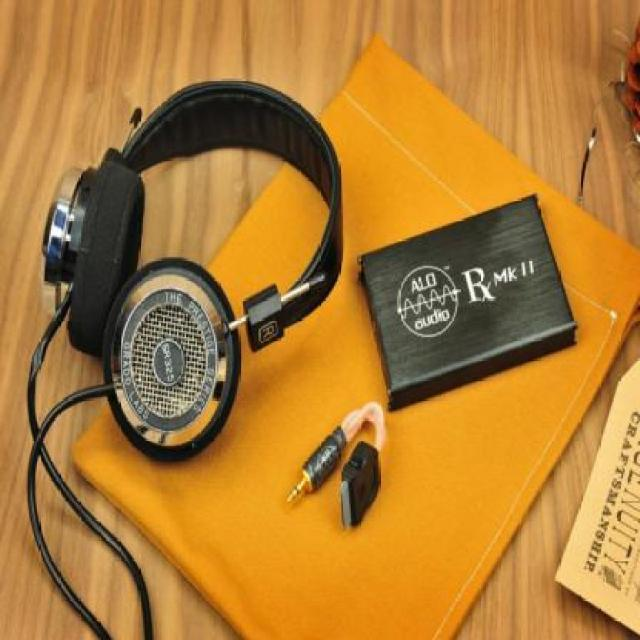earphone: (32, 13, 315, 455)
